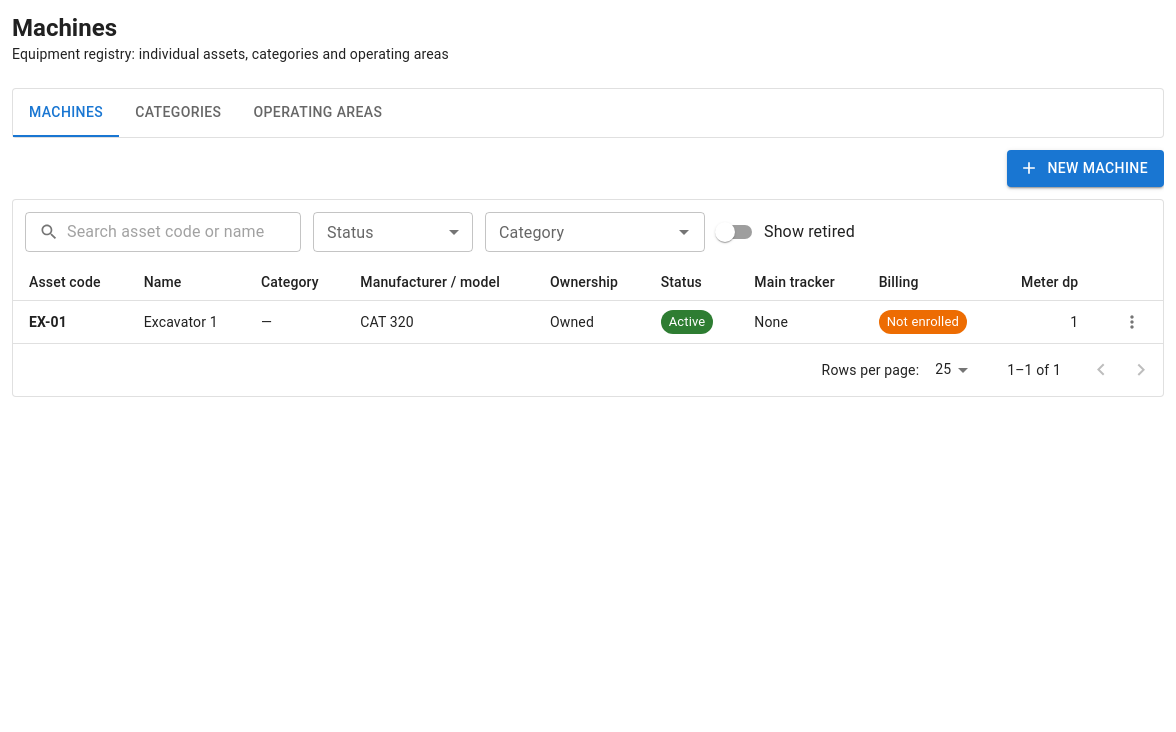
permission-gated tenant registry actions › shows New machine with tenant.machine.write and Enroll with tenant.billing.enroll
Check: the text "EX-01" is shown, box top-left (29, 314), bottom-right (67, 330)
Check: the button "New machine" is shown, box top-left (1008, 150), bottom-right (1164, 186)
Click the button named "Actions for EX-01 · Excavator 1" at (1132,322), box top-left (1117, 306), bottom-right (1147, 336)
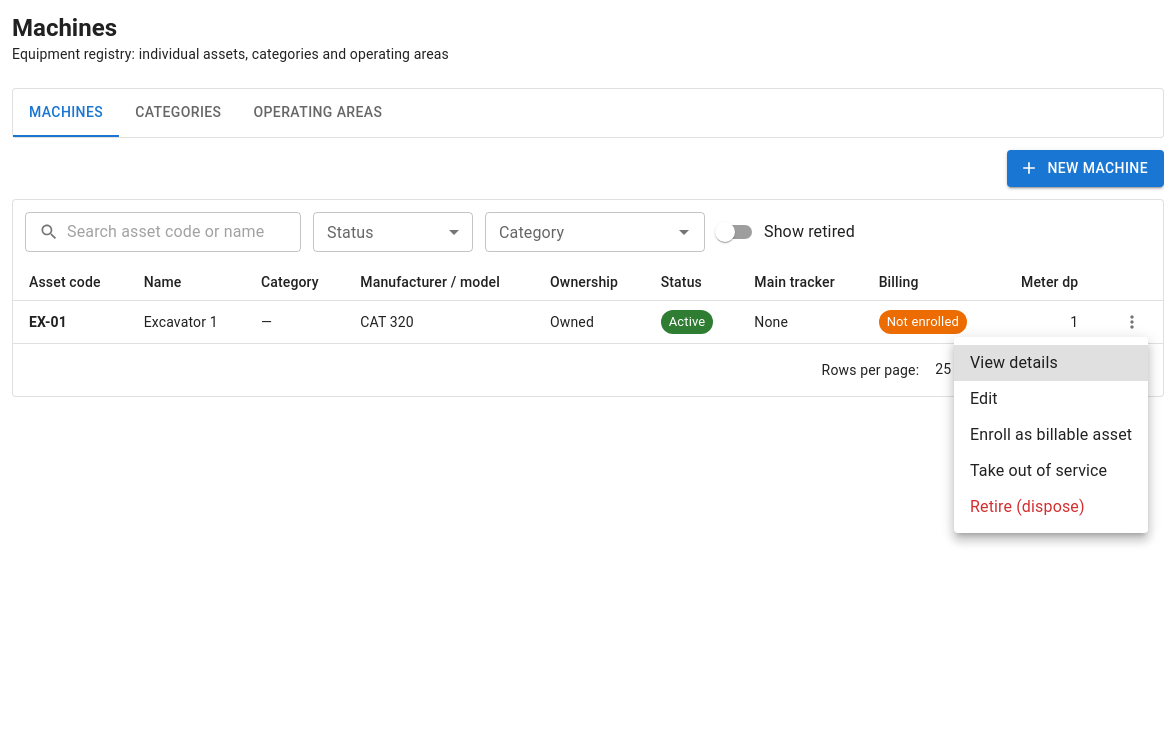
Check: the menu item "Enroll as billable asset" is shown, box top-left (970, 425), bottom-right (1132, 444)
Check: the menu item "Edit" is shown, box top-left (970, 389), bottom-right (998, 408)
